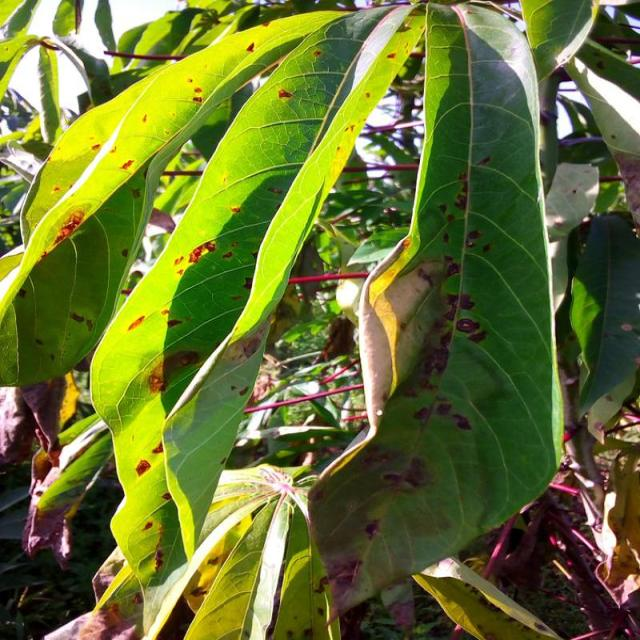cassava leaf: (84, 2, 424, 632), (305, 1, 565, 616), (0, 5, 357, 388)
